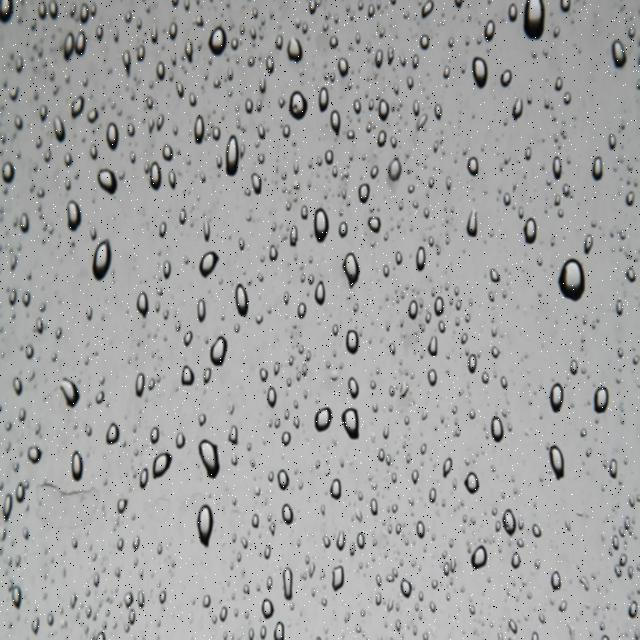raindrop: (556, 256, 590, 316), (193, 438, 226, 488), (338, 242, 366, 297), (193, 500, 220, 556), (90, 232, 116, 289), (542, 437, 568, 488), (522, 0, 548, 48), (230, 270, 252, 326), (221, 127, 242, 185), (272, 460, 298, 506), (94, 164, 122, 206), (55, 371, 82, 414), (193, 243, 219, 285), (208, 328, 230, 377), (498, 497, 520, 545), (286, 86, 310, 130), (150, 444, 174, 488), (548, 376, 568, 426), (67, 440, 87, 490), (340, 403, 362, 447), (312, 402, 335, 444), (590, 380, 614, 420), (312, 198, 331, 248), (206, 23, 229, 64), (62, 197, 82, 242), (520, 216, 544, 252), (144, 154, 162, 201), (284, 31, 304, 72), (104, 416, 124, 456), (469, 52, 488, 94), (342, 324, 362, 362), (104, 120, 122, 160), (467, 543, 490, 574), (488, 409, 506, 446), (462, 464, 481, 499), (277, 502, 298, 531), (328, 473, 344, 508), (248, 168, 264, 199), (346, 374, 362, 404)
